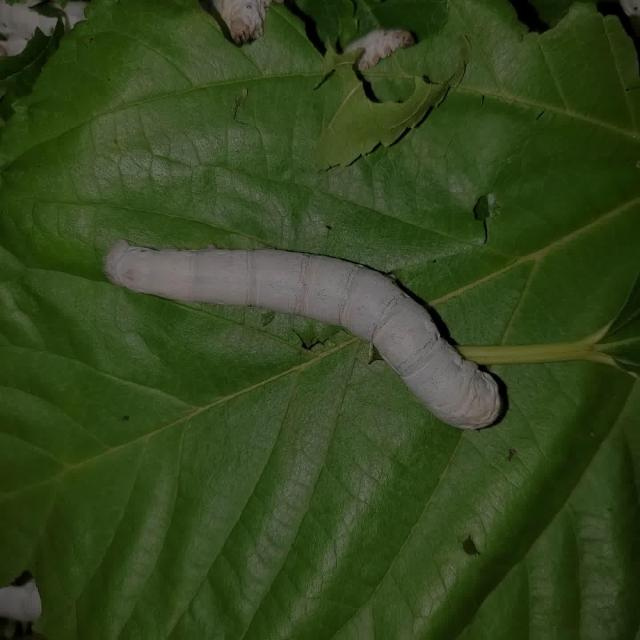Healthy: (85, 206, 521, 463)
